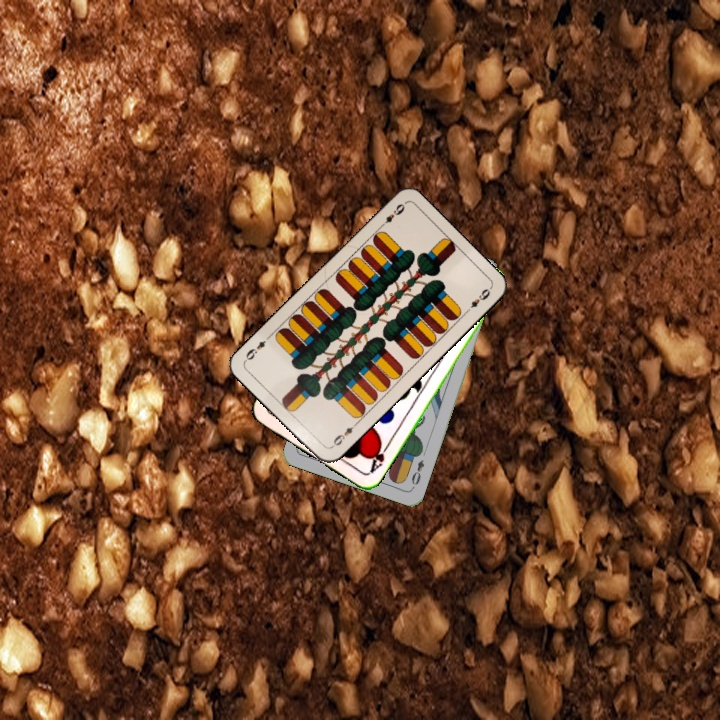E9: (375, 199, 407, 231), (327, 419, 360, 450)
EO: (407, 456, 427, 491)
HA: (365, 437, 392, 476)
